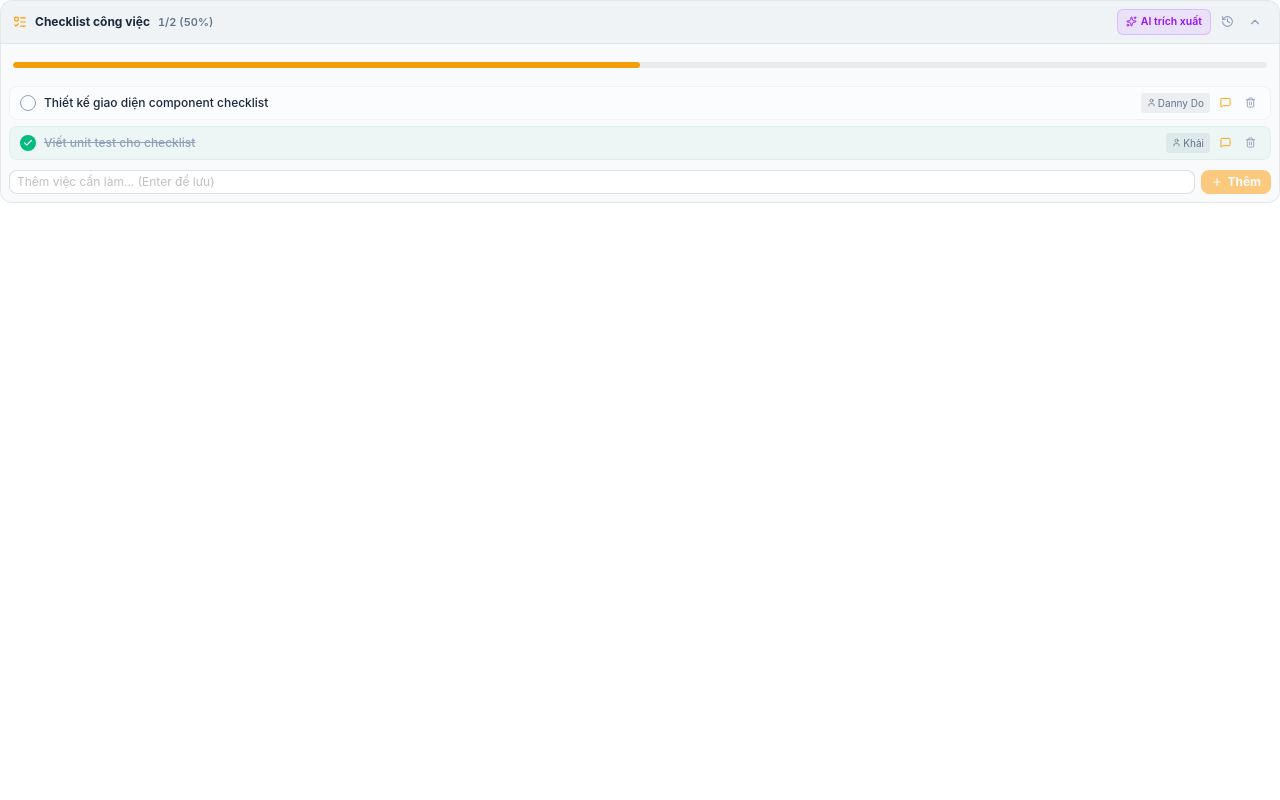
Test: MosChatThreadChecklist UI Component › opens AI extraction preview modal when clicking AI trích xuất
Click the button "AI trích xuất".
click(1164, 22)  # box [1117,9,1211,35]
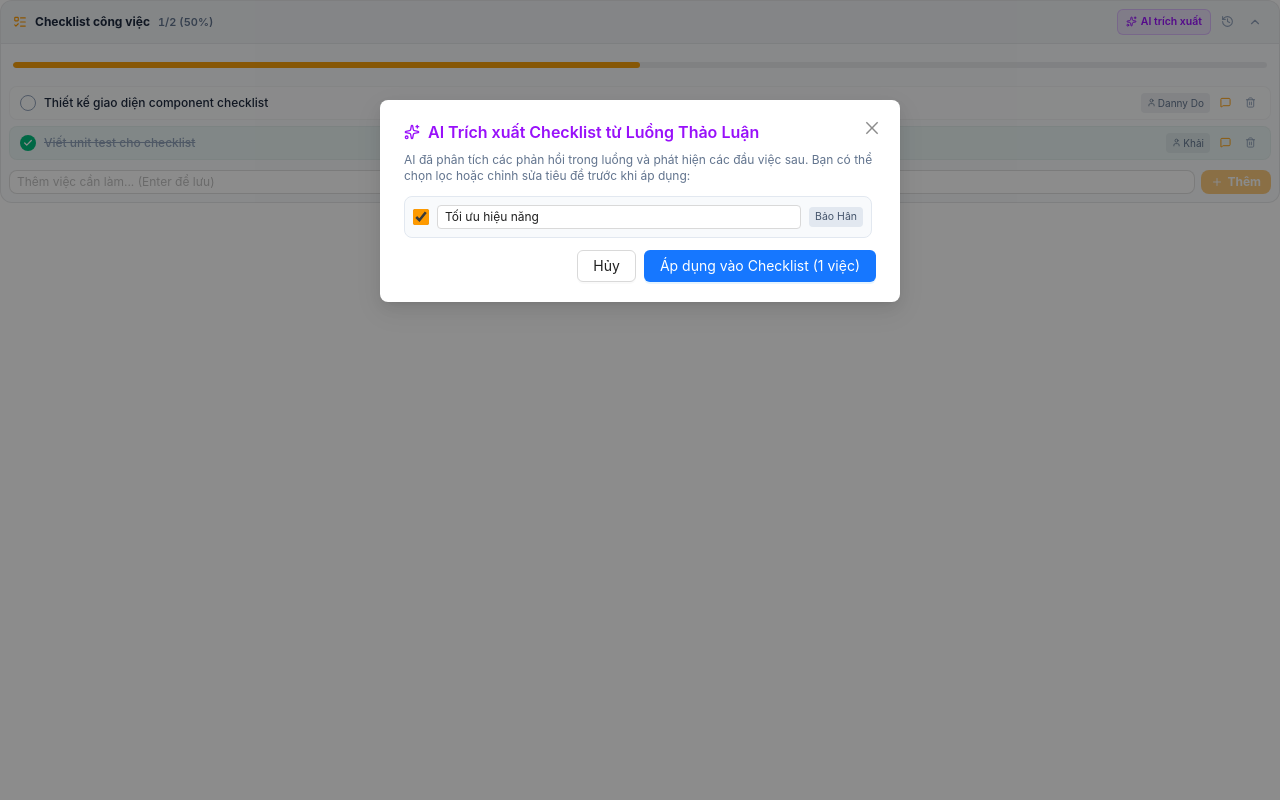
Check: the text "AI Trích xuất Checklist từ Luồng Thảo Luận" is shown, box [428,120,759,144]
Check: the field showing "Tối ưu hiệu năng" is shown, box [437,205,801,229]
